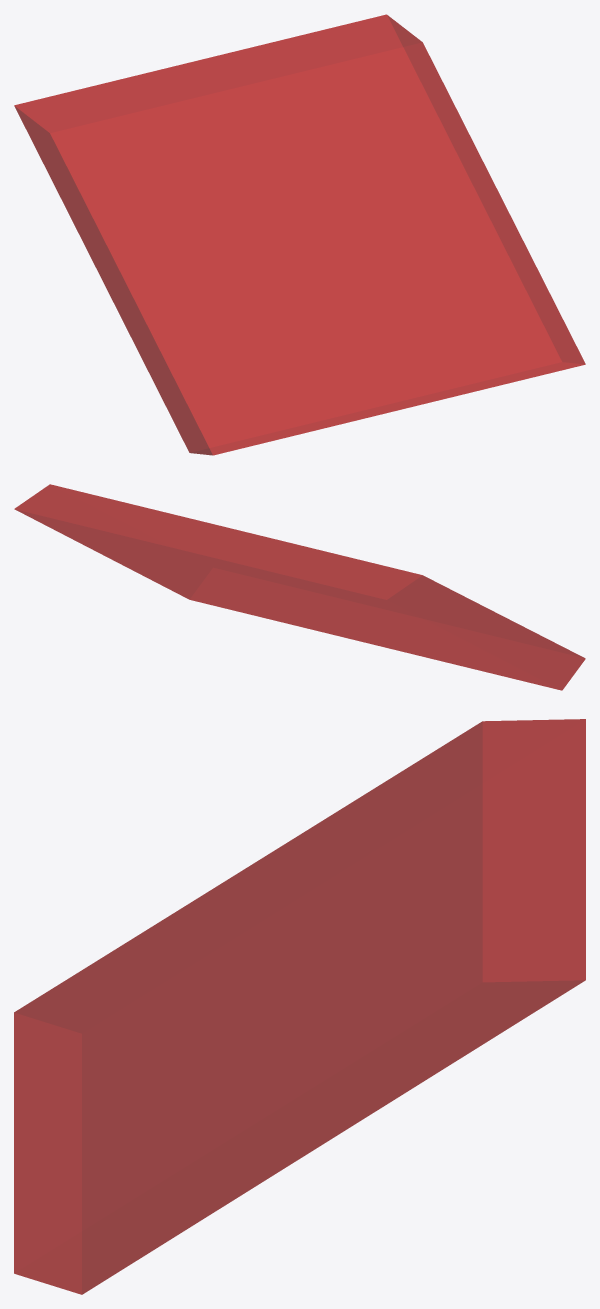
The model's file is SM_Prop_Camp_Wood_Stairs_01_Collision.fbx.
3 renders of one model, top to bottom at view 1: azimuth 30°, elevation 25°; view 2: azimuth 150°, elevation 25°; view 3: azimuth 270°, elevation 25°, orthographic. The views are drawn at different scales.
Visible parts, largest first — view 1: SM_Prop_Camp_Wood_Stairs_01_Collision; view 2: SM_Prop_Camp_Wood_Stairs_01_Collision; view 3: SM_Prop_Camp_Wood_Stairs_01_Collision.
Part boxes in pixels (left/top/right/bottom): SM_Prop_Camp_Wood_Stairs_01_Collision: left=14, top=14, right=585, bottom=455; SM_Prop_Camp_Wood_Stairs_01_Collision: left=14, top=484, right=585, bottom=690; SM_Prop_Camp_Wood_Stairs_01_Collision: left=14, top=719, right=585, bottom=1294.
Size of the model in its own units: 132 by 74.29 by 122.
